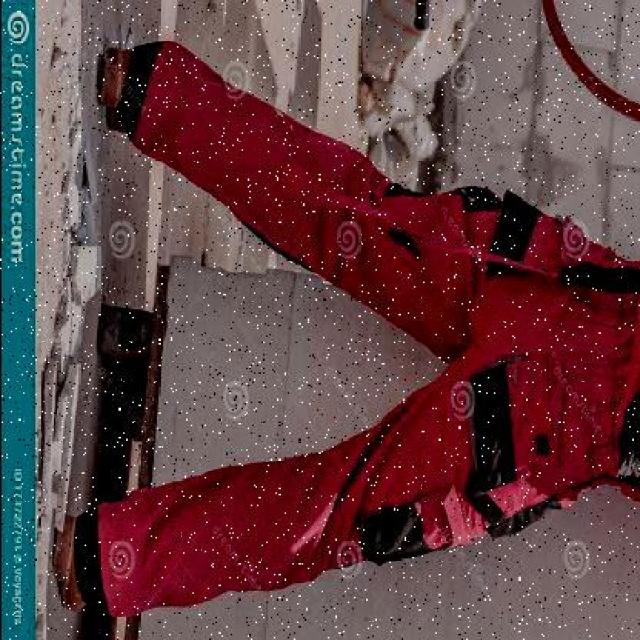shoes: (93, 45, 145, 138)
